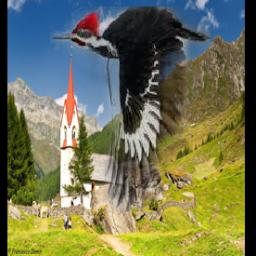Woodpecker: (51, 6, 211, 212)
